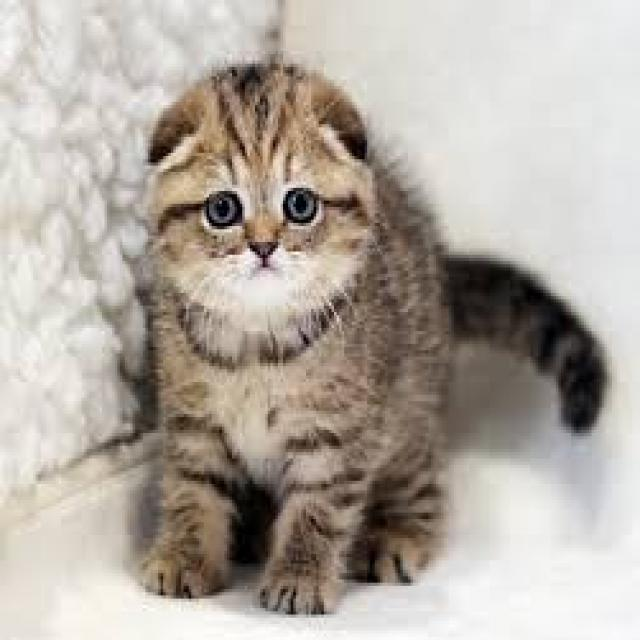cat-face: (99, 42, 407, 356)
